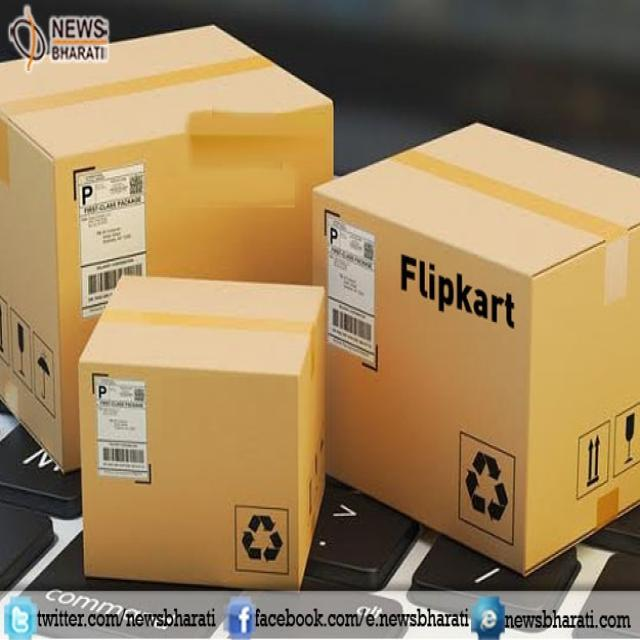cardboxes: (0, 26, 335, 473), (313, 125, 640, 580), (76, 277, 326, 592)
